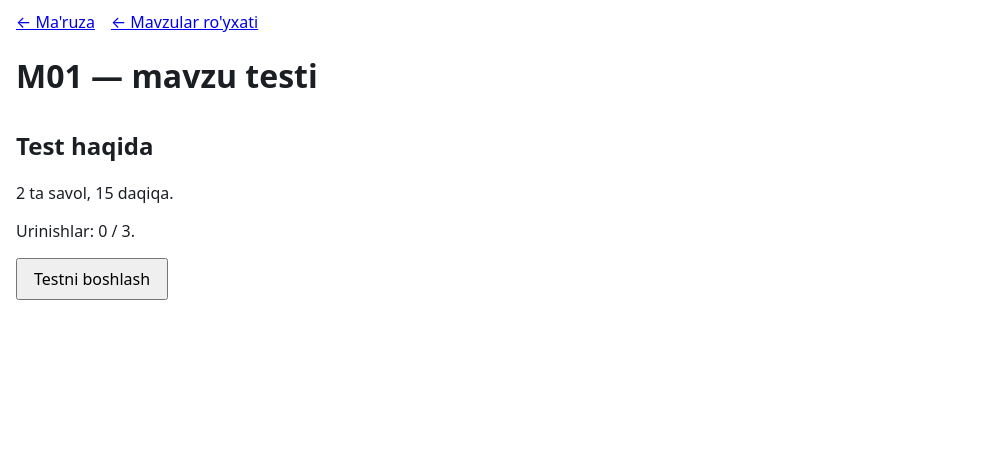
mavzu testi (CNT-06) › boshlash → javob berish → topshirish → natija
Check: the text "2 ta savol, 15 daqiqa." is shown, box [16,182,174,204]
Check: the text "Urinishlar: 0 / 3." is shown, box [16,220,135,242]
Click the button "Testni boshlash".
click(92, 279)  # box [16,258,168,300]
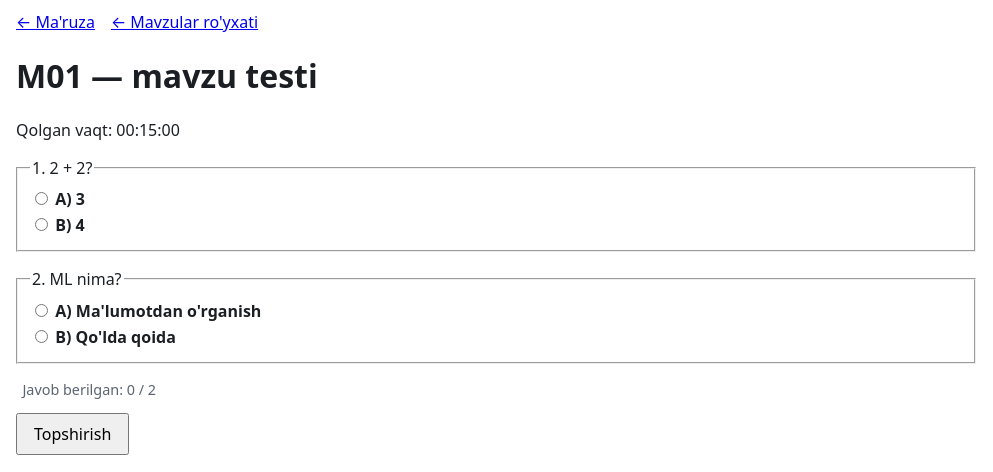
Check: the text "Qolgan vaqt: 00:15:00" is shown, box [16,119,180,141]
Click the radio button labelled "B) 4".
click(42, 225)  # box [35,218,48,232]
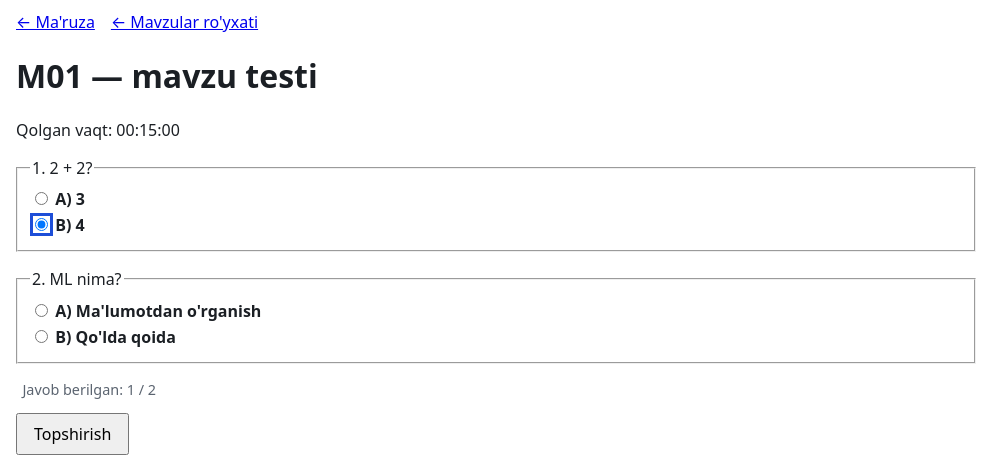
Click the radio button labelled "B) Qo'lda qoida".
click(42, 337)  # box [35,330,48,343]
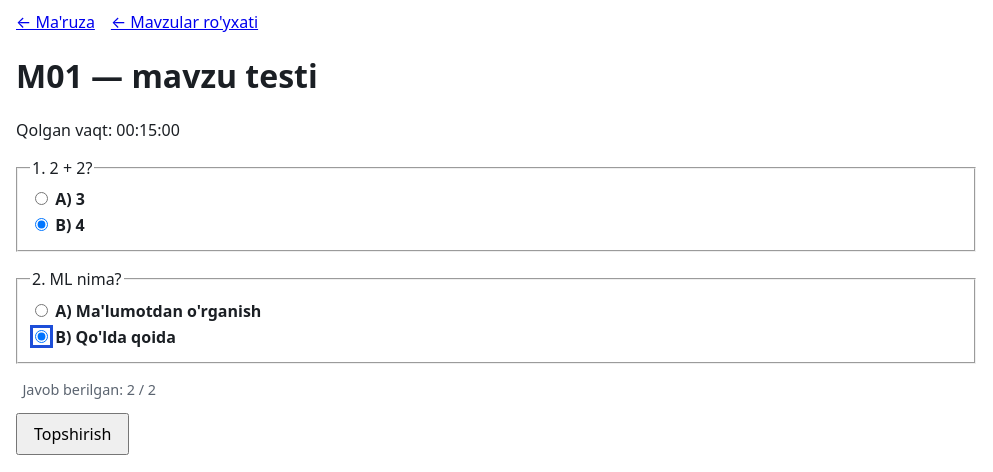
Check: the text "Javob berilgan: 2 / 2" is shown, box [22,380,156,399]
Click the button "Topshirish".
click(73, 434)  # box [16,414,129,456]
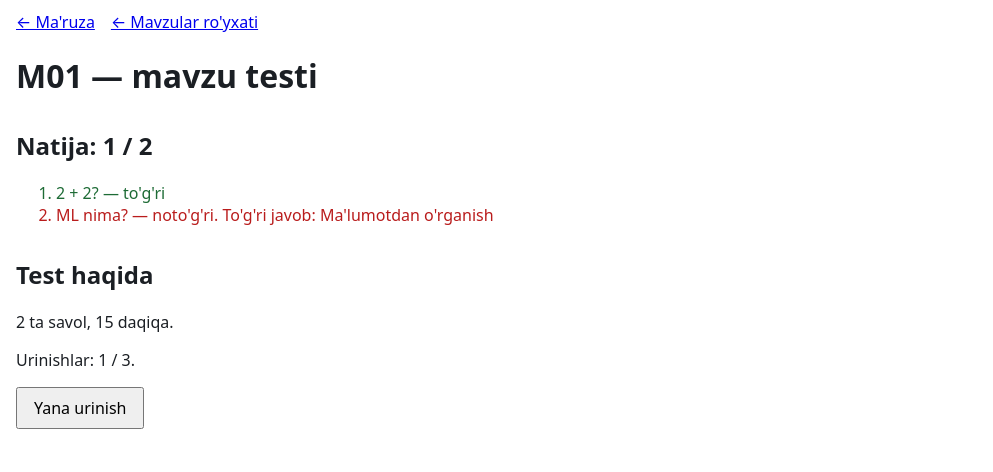
Check: the message reads "Natija: 1 / 2", box [16,129,152,162]
Check: the list item "ML nima? — noto'g'ri. To'g'ri javob: Ma'lumotdan o'rganish" is shown, box [56,204,494,226]
Check: the text "Urinishlar: 1 / 3." is shown, box [16,349,135,371]
